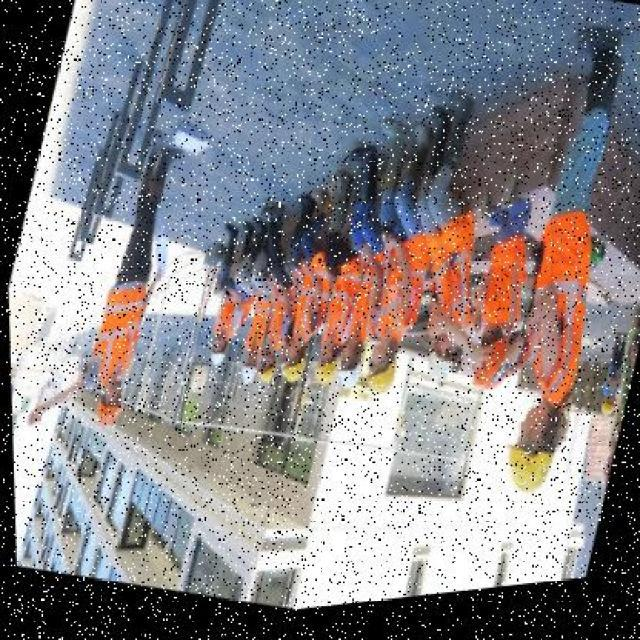helmet: (491, 440, 555, 507), (460, 343, 506, 403), (415, 356, 451, 399), (359, 362, 394, 406), (275, 359, 303, 391), (306, 365, 333, 397), (86, 403, 118, 429), (331, 371, 355, 399), (202, 346, 226, 371), (232, 363, 252, 389)
vest: (502, 225, 608, 417), (408, 225, 490, 345), (465, 233, 533, 348), (83, 271, 145, 385), (371, 243, 425, 357), (339, 254, 383, 348), (280, 263, 326, 349)
